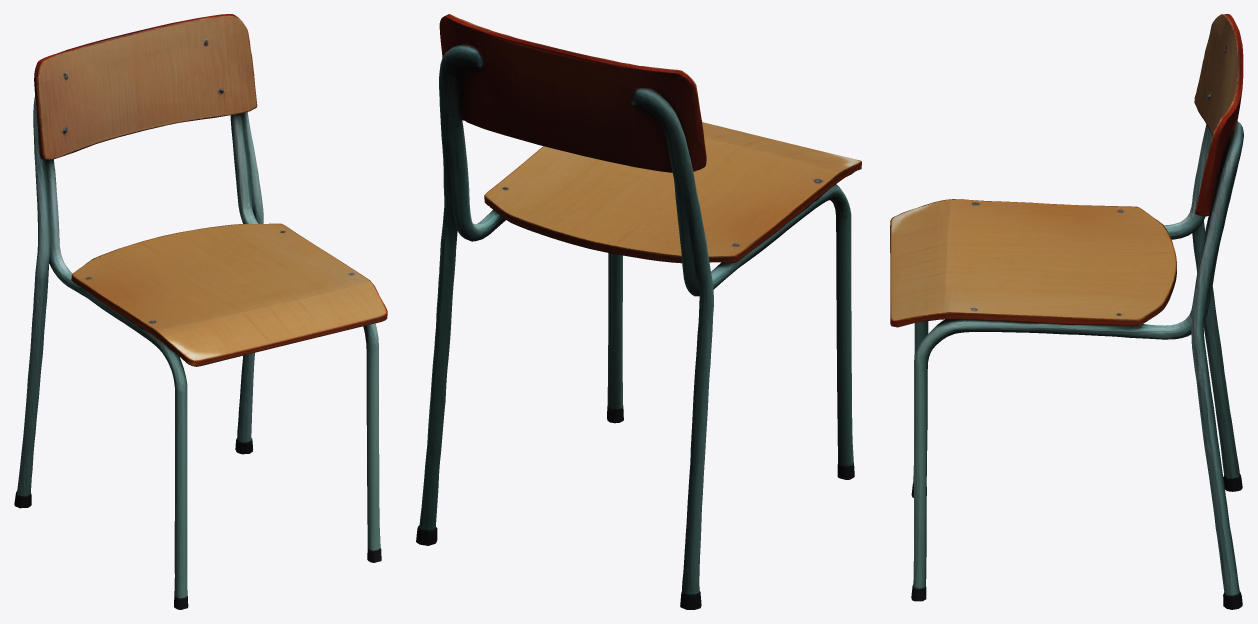
Rendered from chair1.glb.
The picture shows the model from 3 angles, left to right: view 1: azimuth 30°, elevation 25°; view 2: azimuth 150°, elevation 25°; view 3: azimuth 270°, elevation 25°; orthographic projection. The views are drawn at different scales.
Parts seen in each view (by area): view 1: world; view 2: world; view 3: world.
Part boxes in pixels (left/top/right/bottom): world: left=14, top=14, right=387, bottom=609; world: left=416, top=14, right=861, bottom=609; world: left=890, top=14, right=1243, bottom=609.
Size of the model in its own units: 0.5627 by 1 by 0.6659.
1 material, 1 textured.
